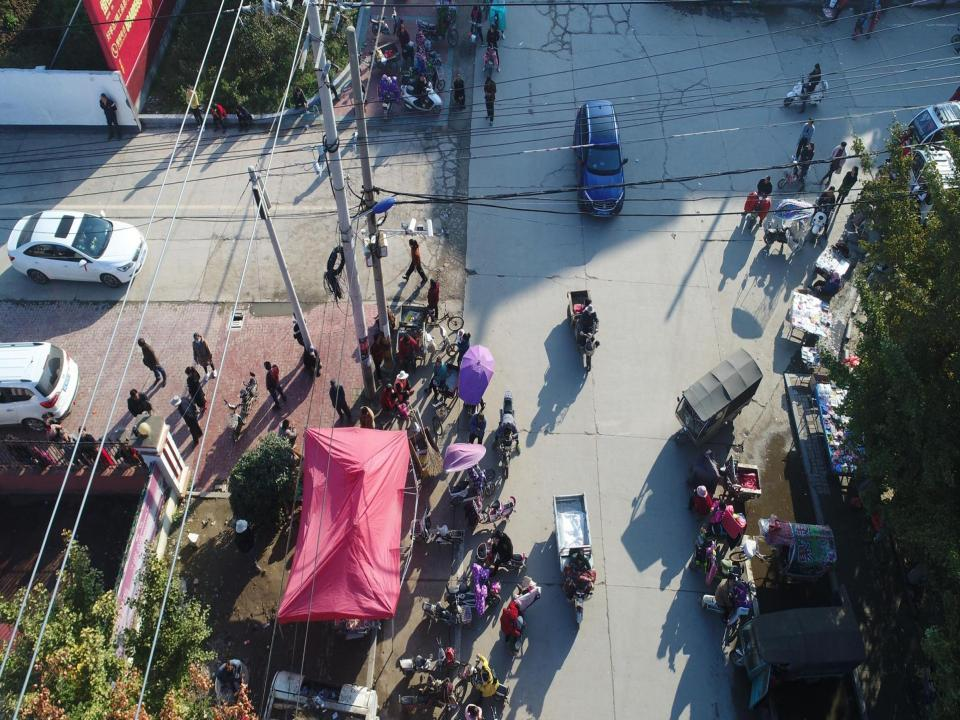car: (4, 208, 147, 287), (572, 96, 629, 221)
